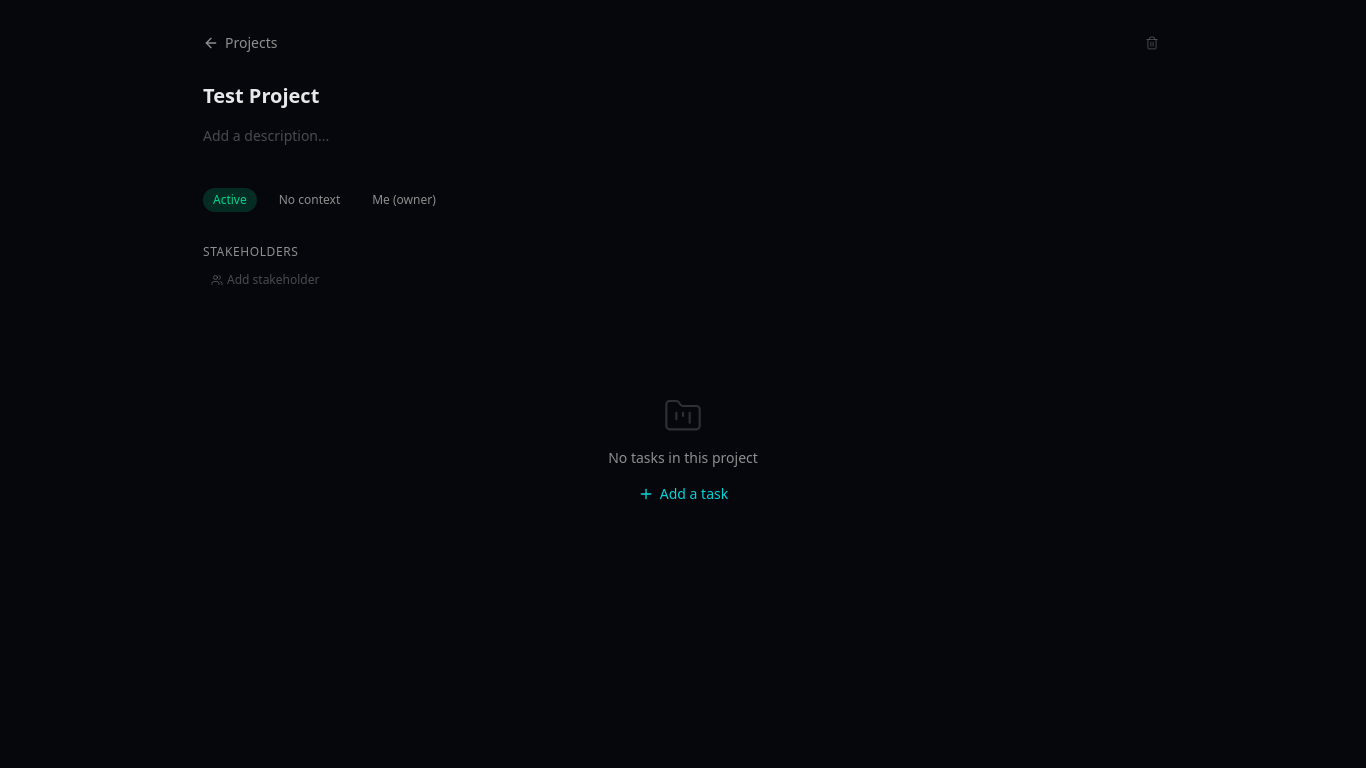
Scenario: ProjectDetailView › renders all project statuses in selector
Click the button with test id "status-selector".
click(230, 200)  # box [203,188,257,212]
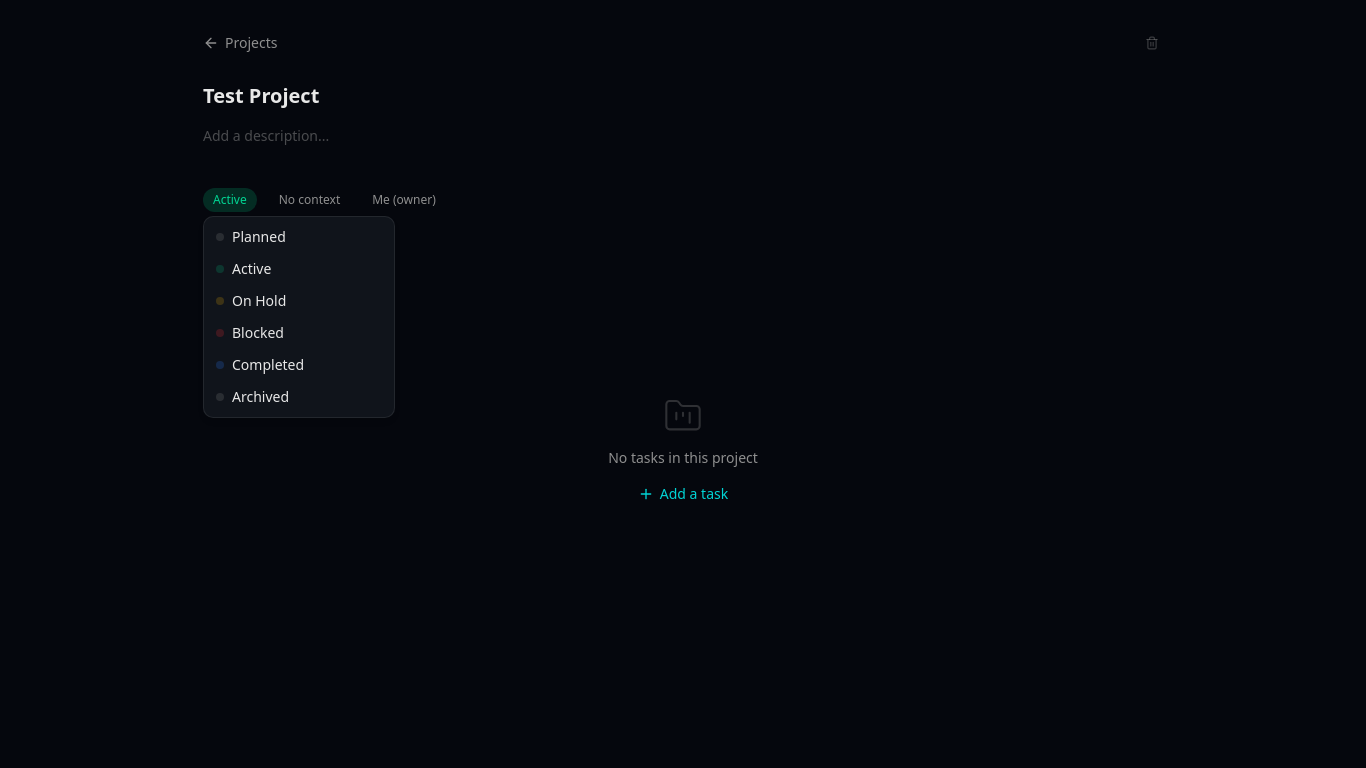
Expected: the option "Planned" is shown, [208,221,390,253]
Expected: the option "Active" is shown, [208,253,390,285]
Expected: the option "On Hold" is shown, [208,285,390,317]
